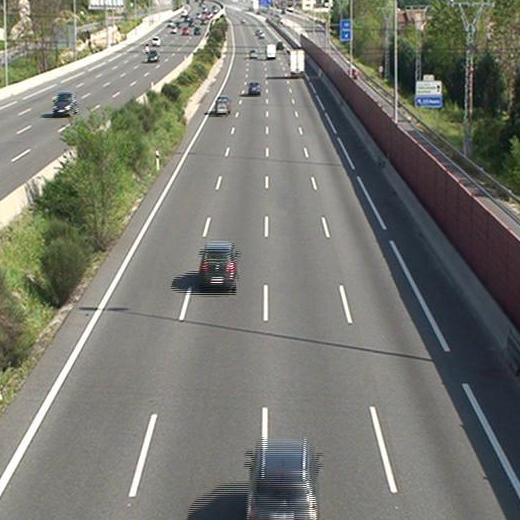car: (244, 446, 319, 520), (200, 244, 237, 290), (216, 95, 230, 110), (248, 83, 261, 96), (248, 49, 258, 58)
small-truck: (289, 49, 305, 77)
van: (266, 45, 276, 59)
